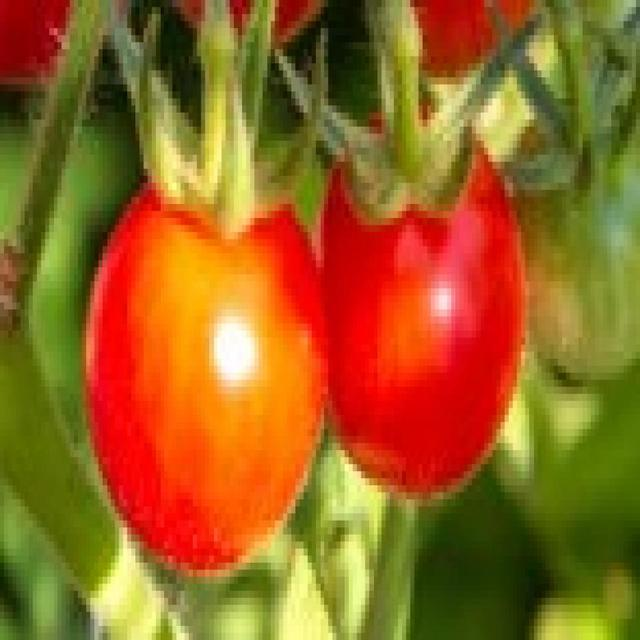Healthy Fruit: (216, 85, 342, 326)
